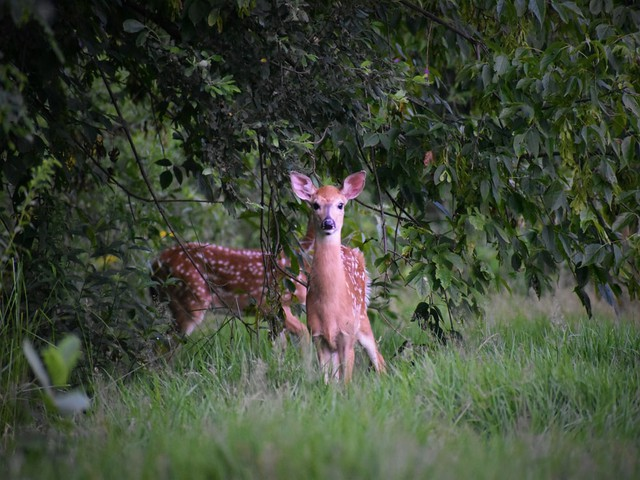deer: (283, 167, 379, 385), (138, 233, 293, 351)
